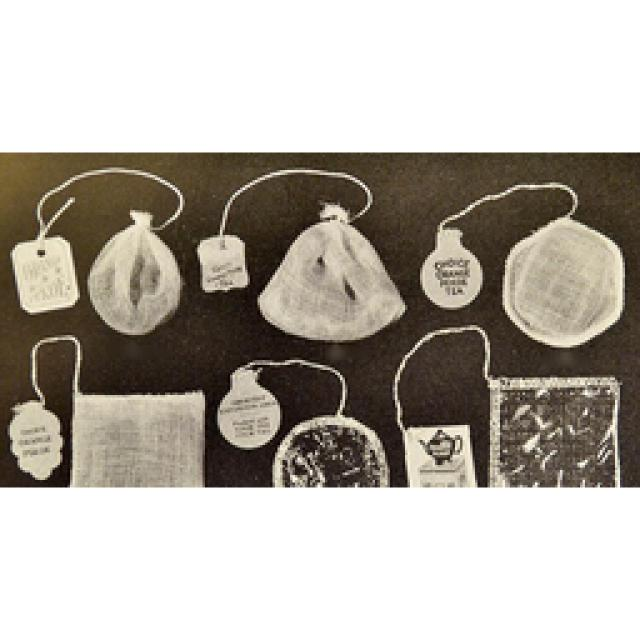tea-bags: (258, 202, 406, 342), (504, 216, 625, 348), (489, 378, 618, 489), (72, 391, 205, 486), (88, 211, 181, 335), (272, 415, 389, 487)
